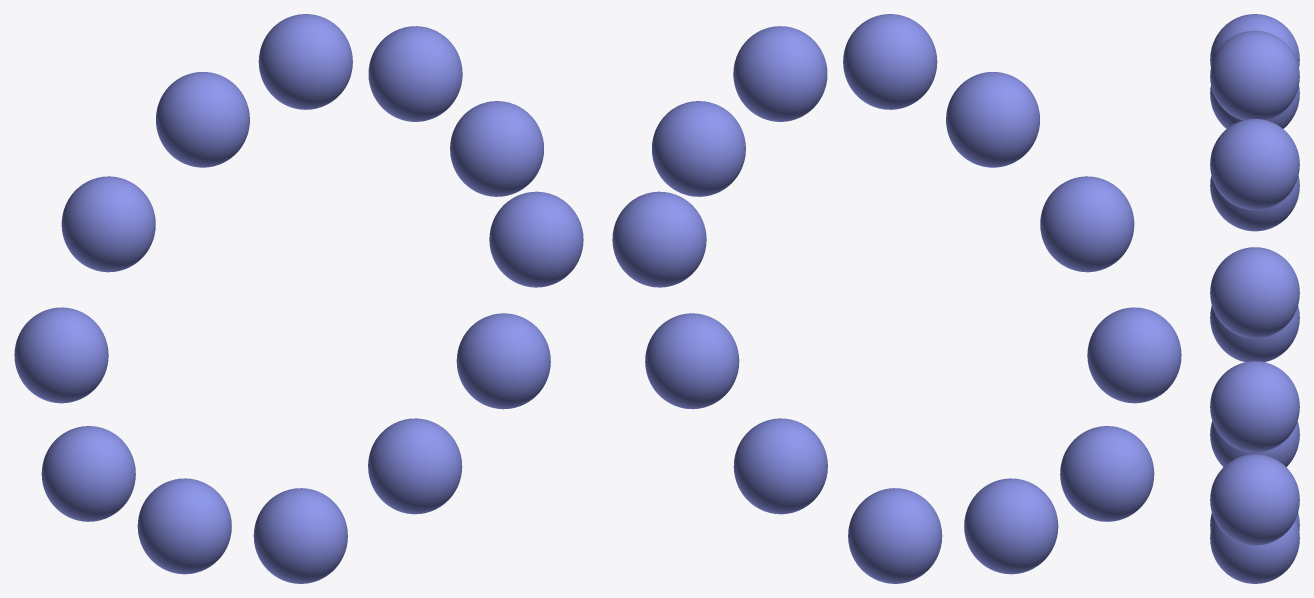
File: ui_icons.glb
3 views of the same model, side by side, from view 1: azimuth 30°, elevation 25°; view 2: azimuth 150°, elevation 25°; view 3: azimuth 270°, elevation 25° (orthographic). The views are drawn at different scales.
Parts seen in each view (by area): view 1: mesh_id38, mesh_id32, mesh_id37, mesh_id39, mesh_id31, mesh_id43, mesh_id33, mesh_id35, mesh_id36, mesh_id42, mesh_id34, mesh_id40; view 2: mesh_id38, mesh_id32, mesh_id37, mesh_id39, mesh_id31, mesh_id43, mesh_id33, mesh_id35, mesh_id36, mesh_id42, mesh_id34, mesh_id40; view 3: mesh_id32, mesh_id33, mesh_id42, mesh_id43, mesh_id31, mesh_id34, mesh_id37, mesh_id38, mesh_id40, mesh_id36, mesh_id39.
Part boxes in pixels (x1,y1,x2,y2): mesh_id38: (14, 307, 108, 403); mesh_id32: (489, 191, 583, 287); mesh_id37: (41, 426, 135, 521); mesh_id39: (61, 176, 155, 272); mesh_id31: (258, 14, 352, 109); mesh_id43: (368, 26, 462, 121); mesh_id33: (456, 313, 550, 409); mesh_id35: (253, 488, 347, 583); mesh_id36: (137, 478, 231, 574); mesh_id42: (450, 101, 543, 196); mesh_id34: (368, 418, 462, 514); mesh_id40: (156, 72, 249, 167); mesh_id38: (1087, 307, 1181, 403); mesh_id32: (612, 191, 706, 287); mesh_id37: (1060, 426, 1154, 521); mesh_id39: (1040, 176, 1134, 272); mesh_id31: (843, 14, 937, 109); mesh_id43: (733, 26, 827, 121); mesh_id33: (645, 313, 739, 409); mesh_id35: (848, 488, 942, 583); mesh_id36: (964, 478, 1058, 574); mesh_id42: (652, 101, 745, 196); mesh_id34: (733, 418, 827, 514); mesh_id40: (946, 72, 1039, 167); mesh_id32: (1210, 361, 1299, 452); mesh_id33: (1210, 454, 1299, 545); mesh_id42: (1210, 247, 1299, 338); mesh_id43: (1210, 119, 1299, 210); mesh_id31: (1210, 30, 1299, 120); mesh_id34: (1210, 519, 1299, 583); mesh_id37: (1210, 305, 1299, 362); mesh_id38: (1210, 176, 1299, 231); mesh_id40: (1210, 14, 1299, 66); mesh_id36: (1210, 421, 1299, 466); mesh_id39: (1210, 86, 1299, 128).
Bounding box in the file's own units: 0.2994 × 0.2879 × 0.0439.
